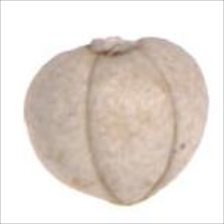L5: (84, 49, 180, 207), (89, 186, 169, 209), (85, 35, 145, 59)
L6: (22, 35, 212, 209)
